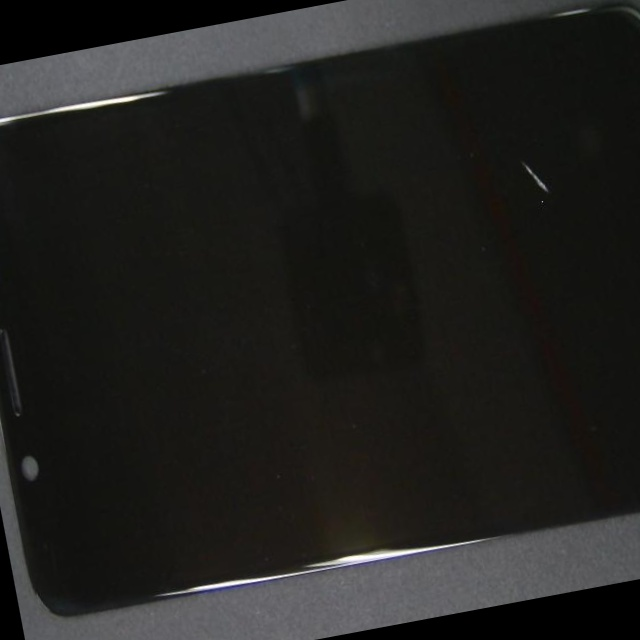scratch: (207, 17, 640, 341)
